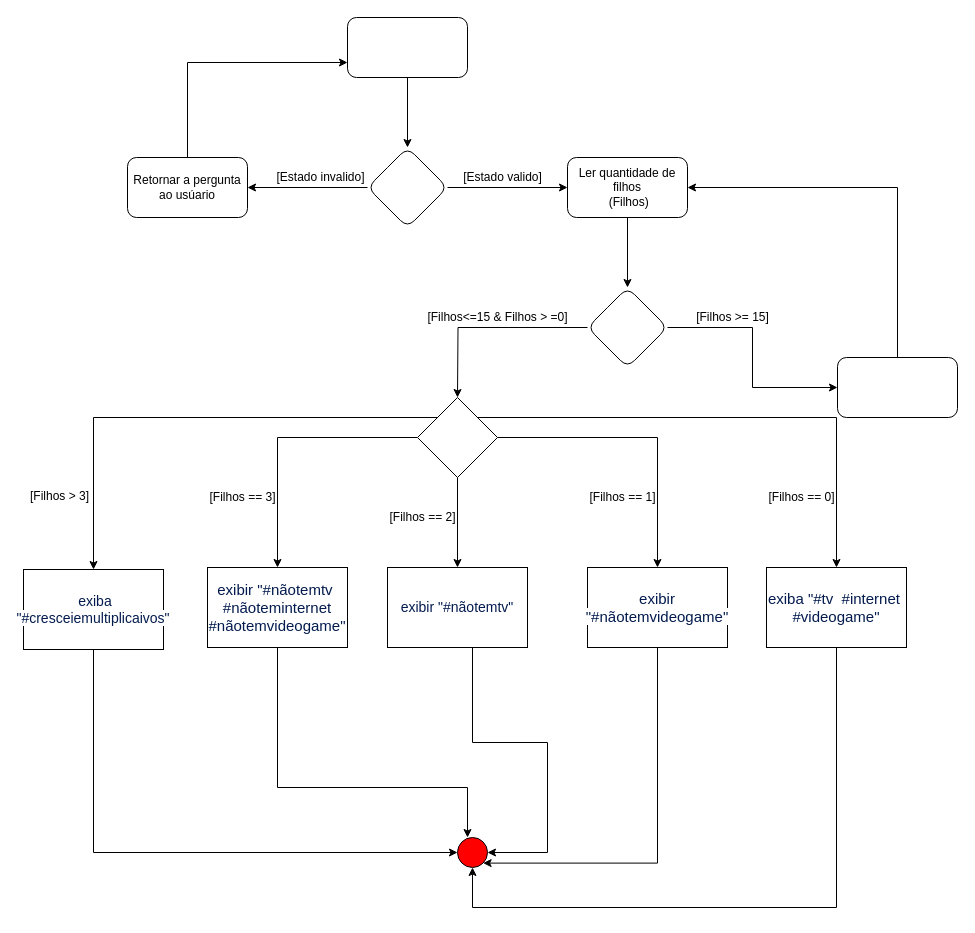
This 975x933 diagram has some shape labels left out. Here are the shapes that lost their labels. From the top down, the centre of each, then its label:
pixel 407 47: Ler estado (Estado)
pixel 897 387: Insistir na quantidade de filhos
